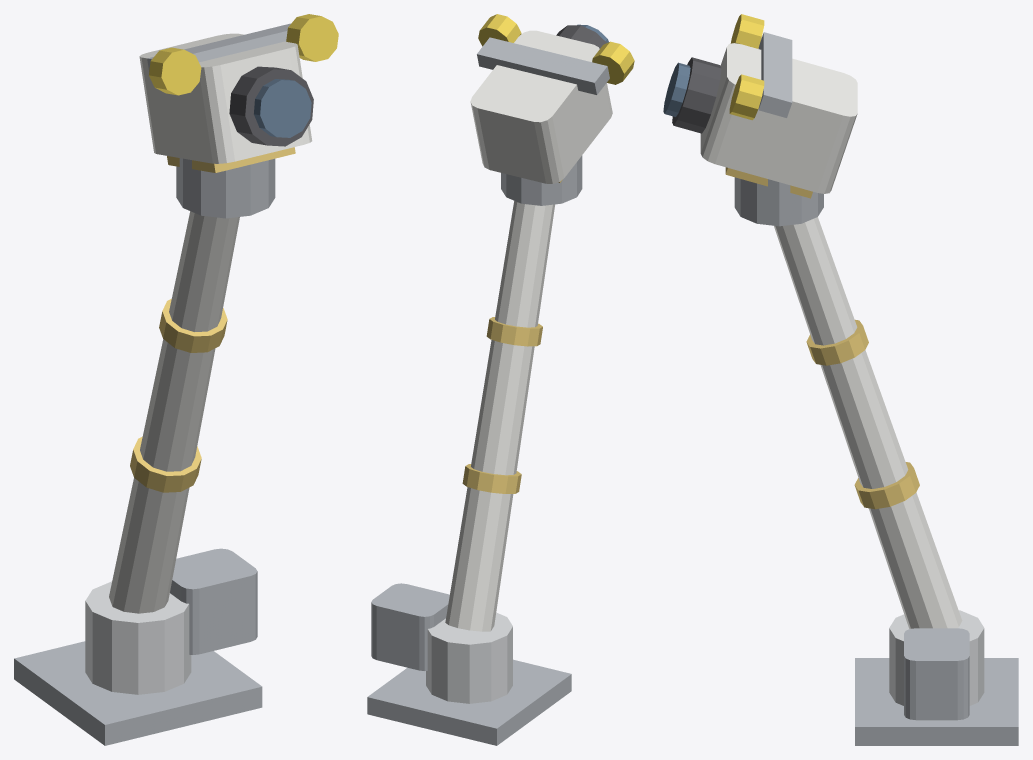
Rendered from orbital-station-and-docking-bays-camera-arm-829e187e__24563.glb.
3 views of the same model, side by side, from view 1: azimuth 30°, elevation 25°; view 2: azimuth 150°, elevation 25°; view 3: azimuth 270°, elevation 25° (orthographic). The views are drawn at different scales.
Parts seen in each view (by area): view 1: camera-arm, camera-tilt (×6), camera-pan; view 2: camera-arm, camera-tilt (×4), camera-pan; view 3: camera-arm, camera-tilt (×5), camera-pan.
Part boxes in pixels (x1,y1,x2,y2): camera-arm: (14, 211, 262, 745); camera-tilt (×6): (139, 14, 338, 172); camera-pan: (176, 158, 275, 218); camera-arm: (367, 201, 571, 745); camera-tilt (×4): (470, 14, 634, 183); camera-pan: (501, 155, 582, 205); camera-arm: (774, 217, 1018, 745); camera-tilt (×5): (663, 14, 857, 193); camera-pan: (734, 177, 823, 226).
Size of the model in its own units: 0.68 by 2.47 by 1.19.
